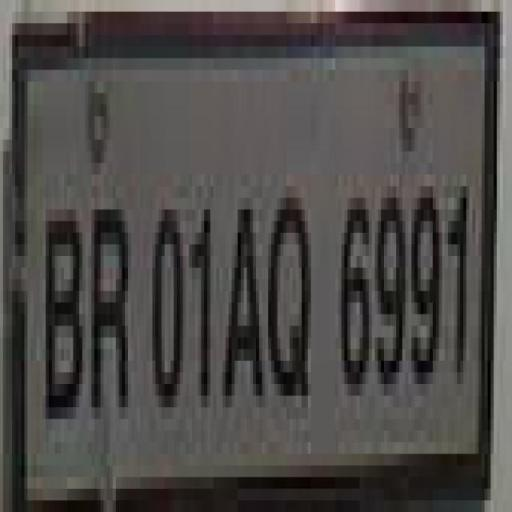number plate: (9, 0, 479, 489)
